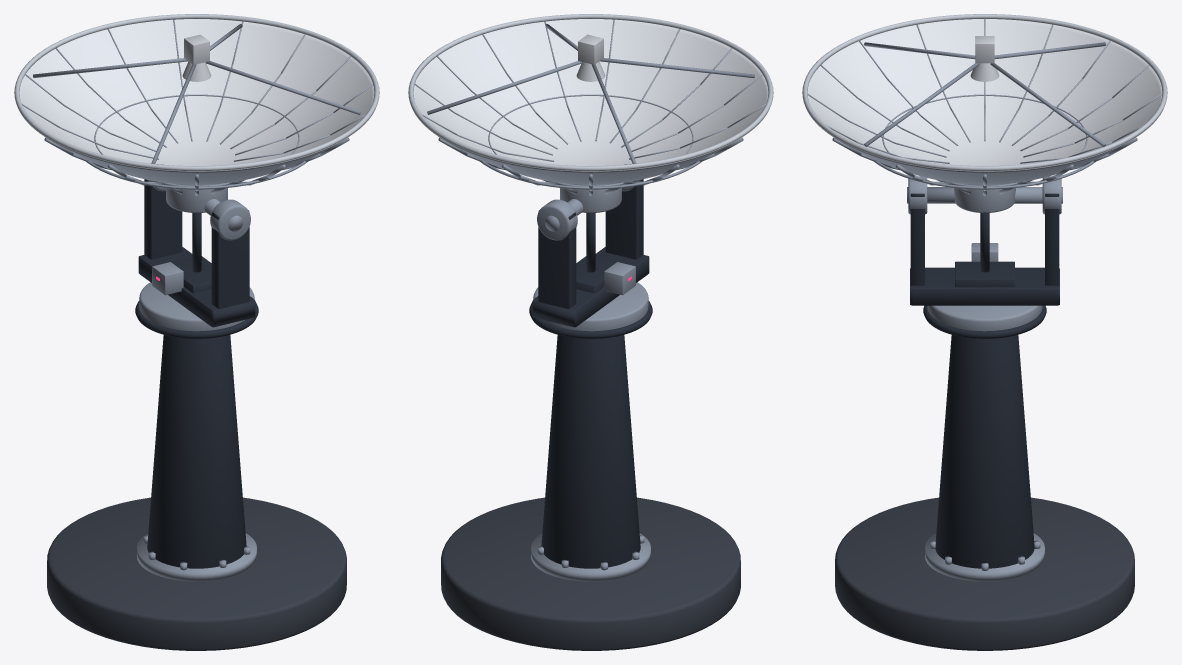
Rendered from dish.glb.
The picture shows the model from 3 angles, left to right: view 1: azimuth 30°, elevation 25°; view 2: azimuth 150°, elevation 25°; view 3: azimuth 270°, elevation 25°; orthographic projection.
Visible parts, largest first — view 1: reflector, pad, pedestal, rim, yoke_arm, yoke_arm.001, yoke_base, turntable, flange, ring_gear, hub, bearing (+8 smaller); view 2: reflector, pad, pedestal, rim, yoke_arm.001, yoke_arm, yoke_base, turntable, flange, ring_gear, hub, bearing.001 (+8 smaller); view 3: reflector, pad, pedestal, rim, yoke_base, turntable, flange, counterweight, hub, yoke_arm, yoke_arm.001, ring_gear (+8 smaller).
Boxes of the visible parts, x1=… form: reflector: x1=19, y1=19, x2=374, y2=184; pad: x1=47, y1=497, x2=346, y2=650; pedestal: x1=147, y1=335, x2=246, y2=568; rim: x1=14, y1=14, x2=379, y2=170; yoke_arm: x1=211, y1=210, x2=249, y2=309; yoke_arm.001: x1=144, y1=179, x2=182, y2=259; yoke_base: x1=138, y1=247, x2=255, y2=327; turntable: x1=139, y1=282, x2=254, y2=331; flange: x1=137, y1=533, x2=256, y2=581; ring_gear: x1=135, y1=301, x2=258, y2=338; hub: x1=166, y1=184, x2=227, y2=212; bearing: x1=210, y1=199, x2=250, y2=240; reflector: x1=413, y1=19, x2=768, y2=184; pad: x1=441, y1=497, x2=740, y2=650; pedestal: x1=541, y1=335, x2=640, y2=568; rim: x1=408, y1=14, x2=773, y2=170; yoke_arm.001: x1=538, y1=210, x2=576, y2=309; yoke_arm: x1=605, y1=179, x2=643, y2=259; yoke_base: x1=532, y1=247, x2=649, y2=327; turntable: x1=533, y1=282, x2=648, y2=331; flange: x1=531, y1=533, x2=650, y2=581; ring_gear: x1=529, y1=301, x2=652, y2=338; hub: x1=560, y1=184, x2=621, y2=212; bearing.001: x1=537, y1=199, x2=577, y2=240; reflector: x1=807, y1=19, x2=1162, y2=184; pad: x1=835, y1=497, x2=1134, y2=650; pedestal: x1=935, y1=335, x2=1034, y2=568; rim: x1=802, y1=14, x2=1167, y2=170; yoke_base: x1=910, y1=267, x2=1059, y2=305; turntable: x1=927, y1=305, x2=1042, y2=331; flange: x1=925, y1=533, x2=1044, y2=581; counterweight: x1=955, y1=261, x2=1014, y2=287; hub: x1=954, y1=184, x2=1015, y2=212; yoke_arm: x1=910, y1=193, x2=924, y2=285; yoke_arm.001: x1=1045, y1=193, x2=1059, y2=285; ring_gear: x1=923, y1=305, x2=1046, y2=338.
Bounding box in the file's own units: 3.04 × 5.05 × 3.04.
